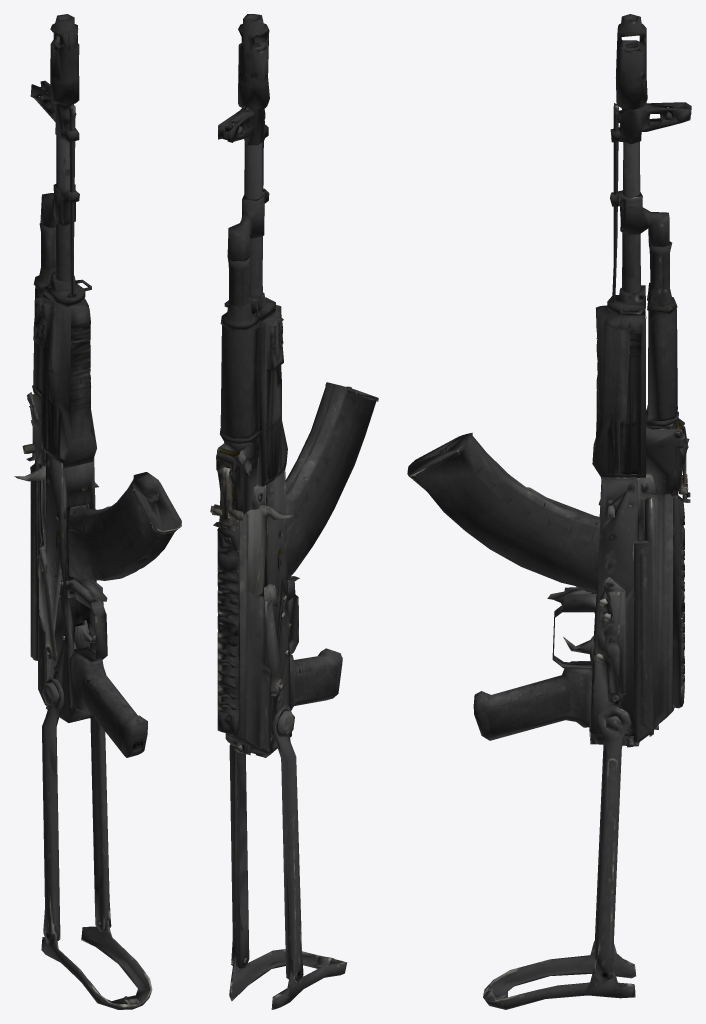
Rendered from AK103Skele.fbx.
3 renders of one model, left to right at view 1: azimuth 30°, elevation 25°; view 2: azimuth 150°, elevation 25°; view 3: azimuth 270°, elevation 25°, orthographic. The views are drawn at different scales.
Visible parts, largest first — view 1: reducedStockWire; view 2: reducedStockWire; view 3: reducedStockWire.
Part boxes in pixels (x1,y1,x2,y2): reducedStockWire: (14,14,181,1009); reducedStockWire: (210,14,378,1009); reducedStockWire: (407,14,691,1009).
Size of the model in its own units: 0.0475 by 0.5946 by 0.1553.
